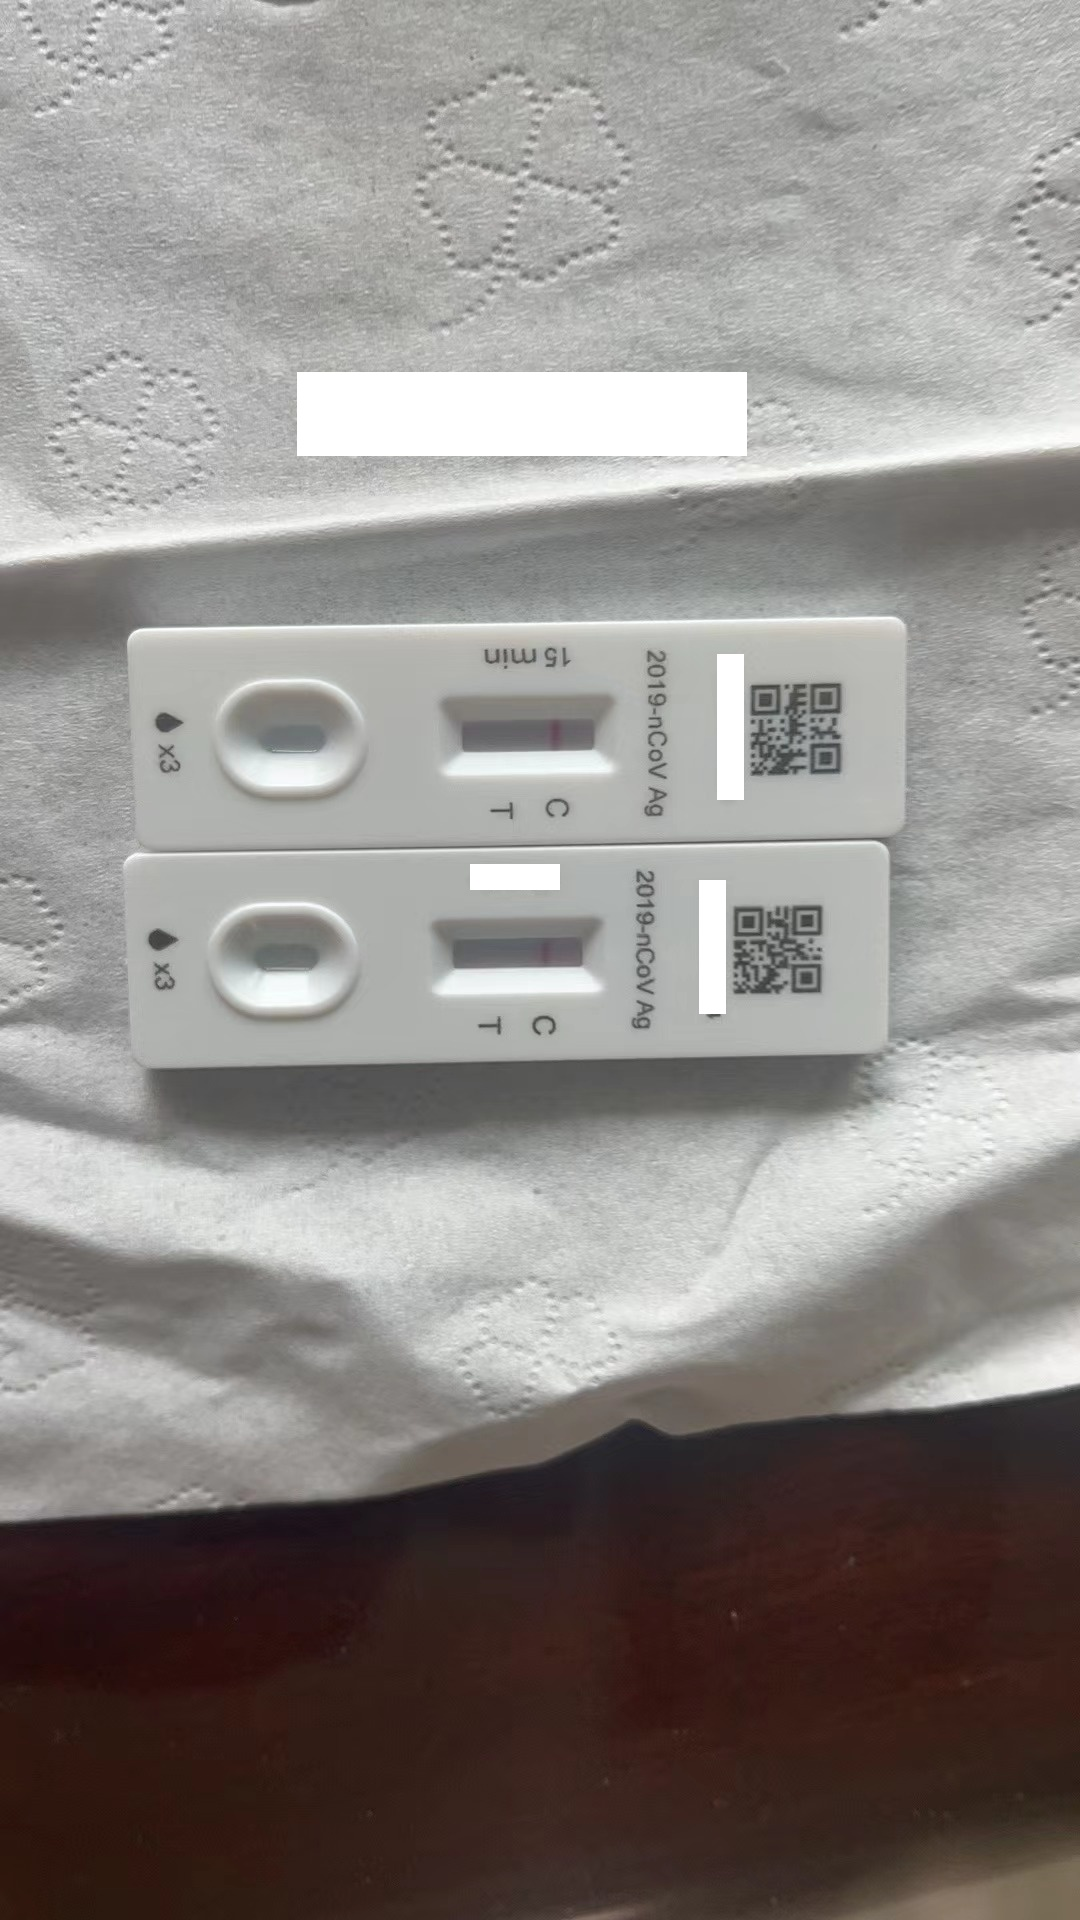negative: (442, 692, 629, 778), (433, 918, 608, 992)
